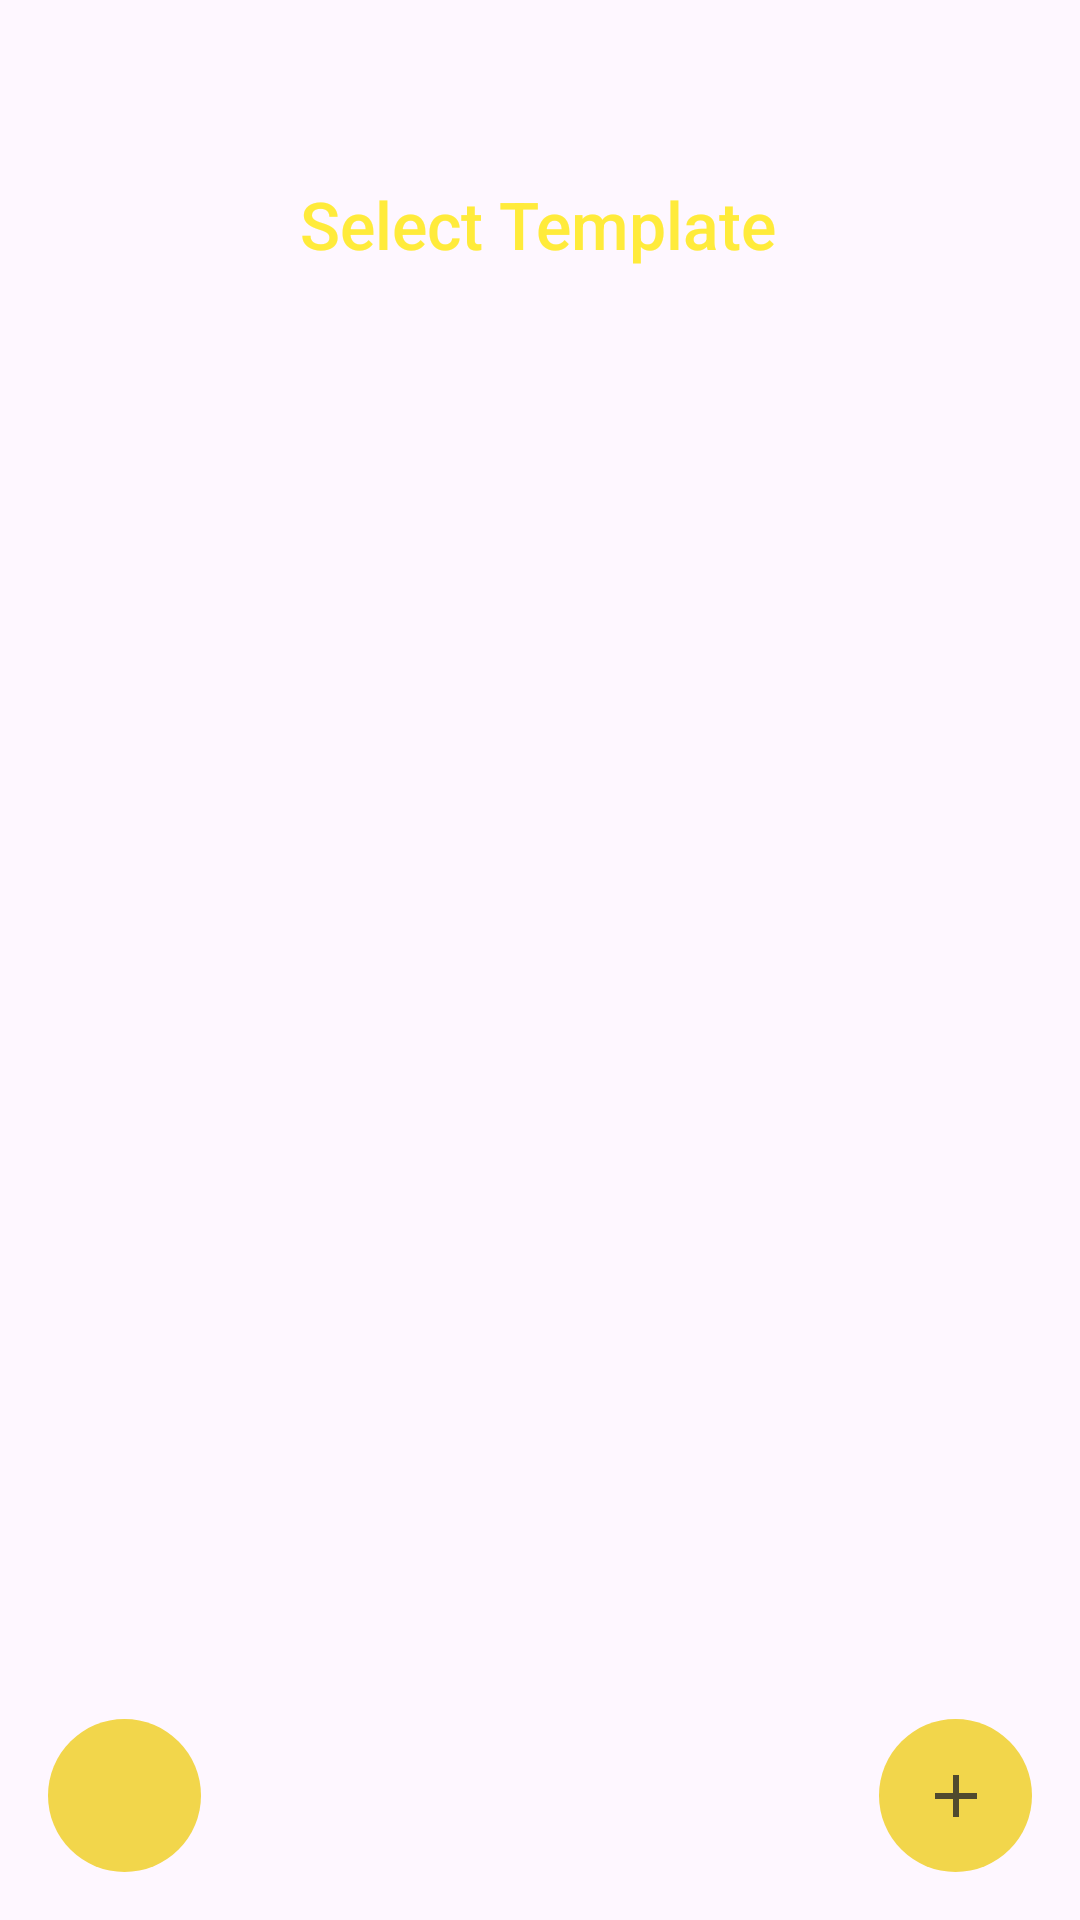

Icons on this 1080px×1920px Android screen, each with the point to tap as (x=x, y=y):
create new template: (x=955, y=1795)
